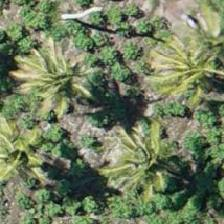coconut_tree: (105, 123, 195, 213), (3, 35, 93, 125), (159, 17, 223, 107), (0, 97, 63, 187)
